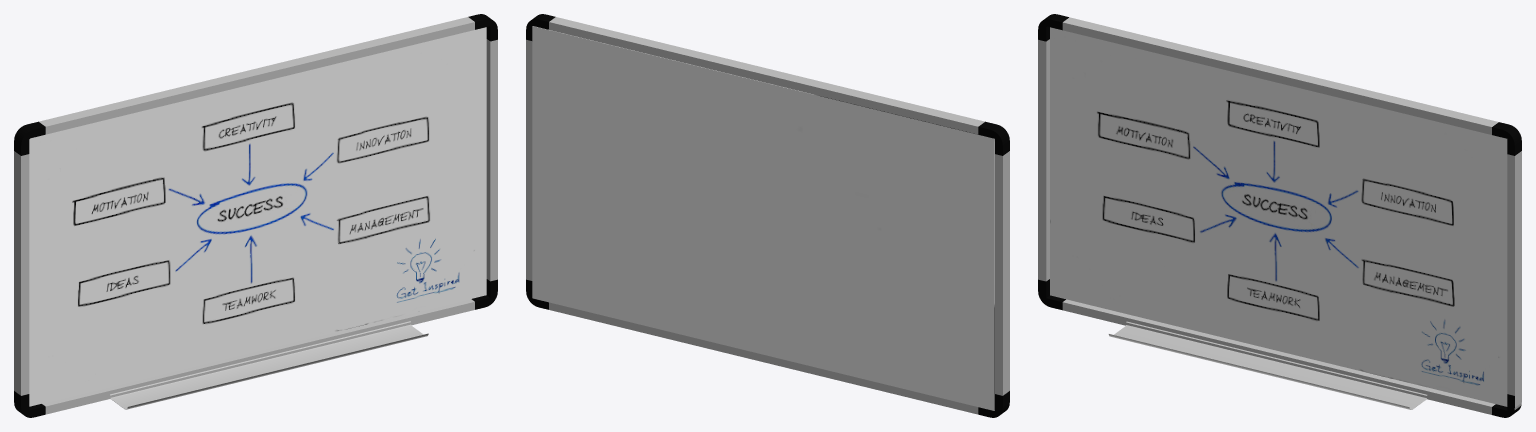
File: Whiteboard.FBX
3 views of the same model, side by side, from view 1: azimuth 30°, elevation 25°; view 2: azimuth 150°, elevation 25°; view 3: azimuth 330°, elevation 25° (orthographic).
Visible parts, largest first — view 1: Whiteboard; view 2: Whiteboard; view 3: Whiteboard.
Boxes of the visible parts, x1=… form: Whiteboard: x1=14, y1=14, x2=497, y2=417; Whiteboard: x1=526, y1=14, x2=1009, y2=417; Whiteboard: x1=1038, y1=14, x2=1521, y2=417.
Bounding box in the file's own units: 178 × 103 × 16.37.
